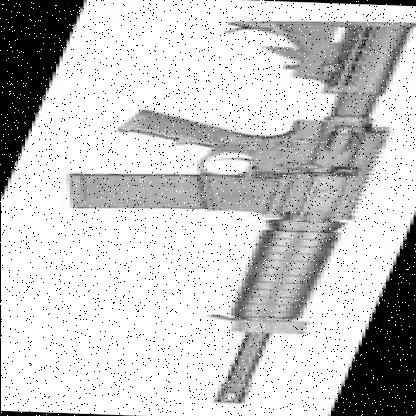rifle: (0, 16, 416, 405)
